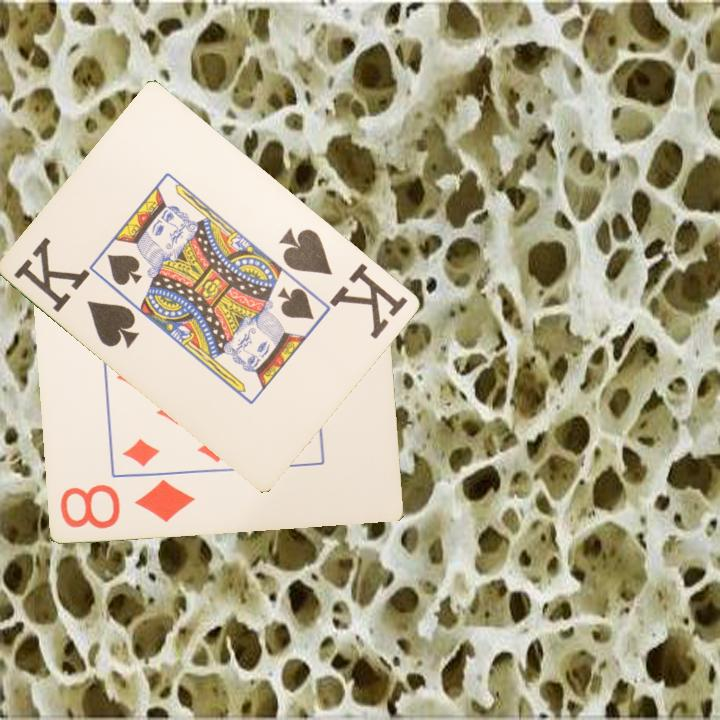8d: (57, 475, 198, 531)
Ks: (276, 223, 411, 342), (10, 233, 143, 352)
